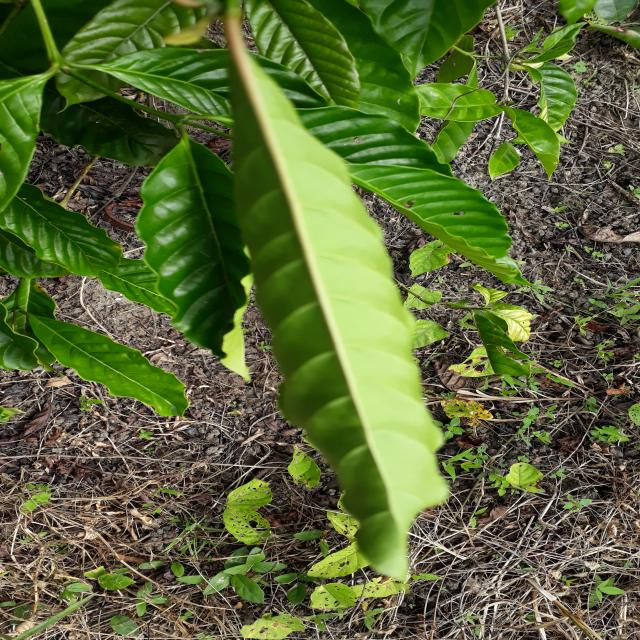Sanas: (225, 0, 451, 586)
